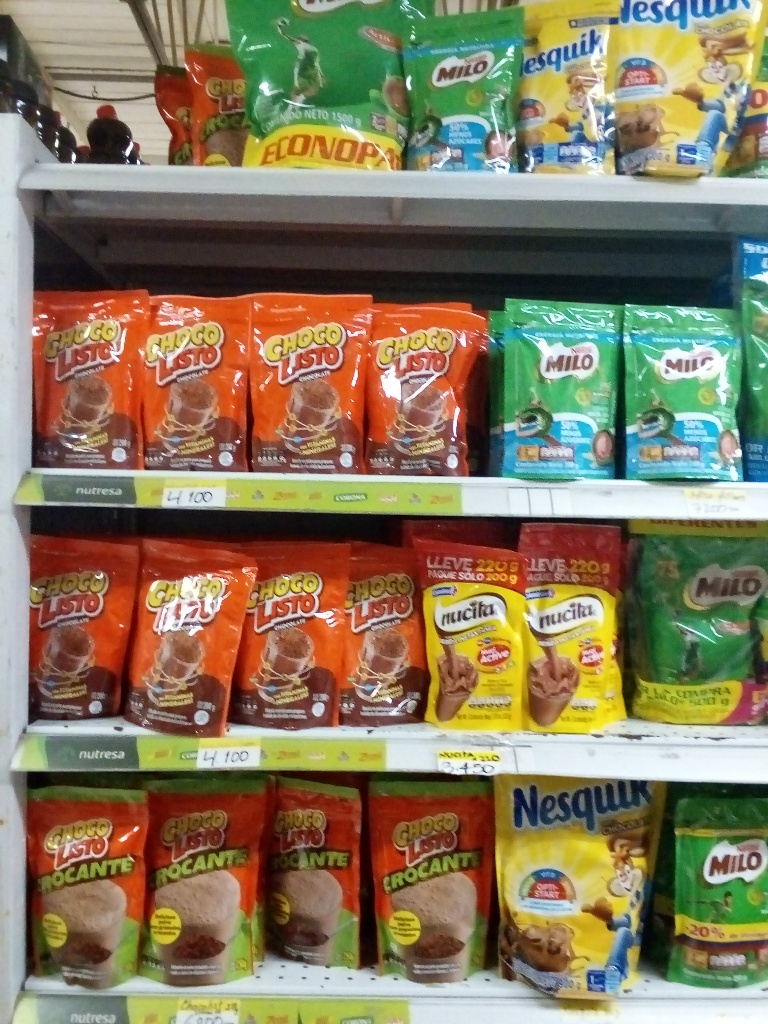COL0170102DYP25000: (26, 775, 141, 986)
COL0170103DYP20000: (27, 537, 125, 725)
COL0170203DYP25000: (663, 795, 767, 990)
COL0170203DYP50000: (624, 520, 766, 732)
COL0170205DYP20000: (500, 294, 624, 467)
COL0170306DYP20000: (514, 3, 618, 177)
